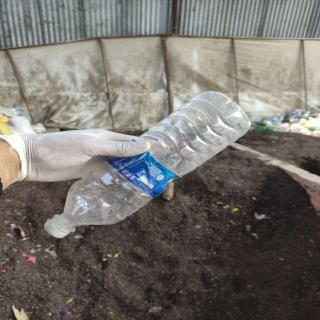Plastic-bottle: (40, 88, 261, 246)
